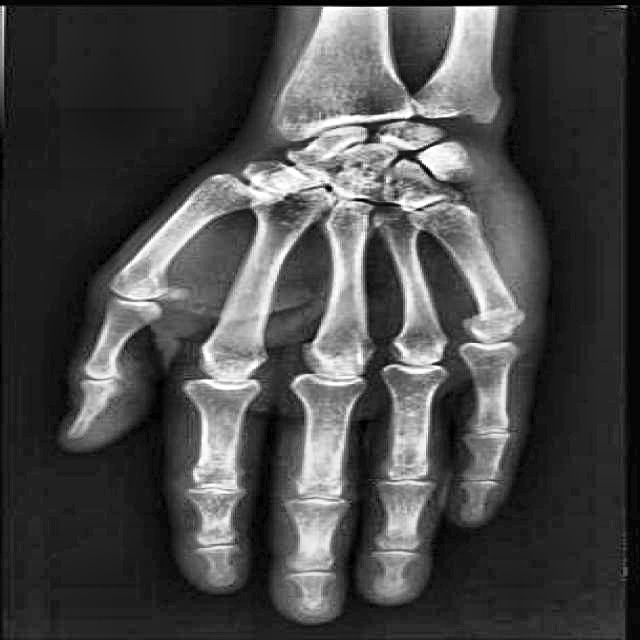Comminuted: (466, 290, 531, 335)
